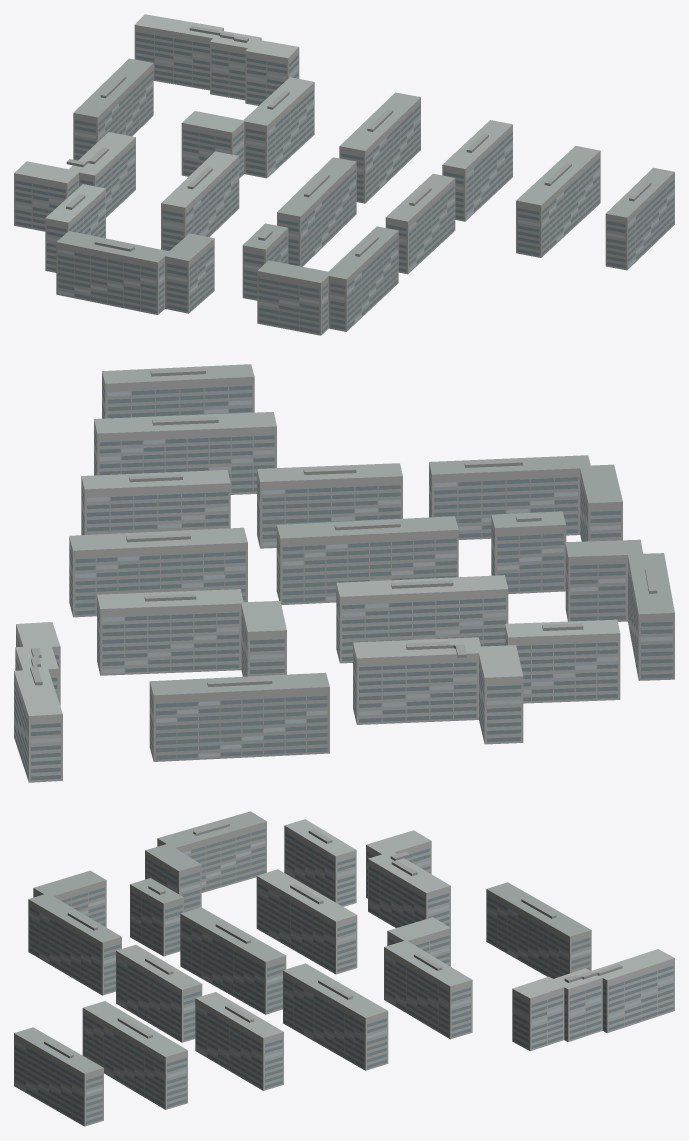
The model's file is apt-a13524006.glb.
The picture shows the model from 3 angles, top to bottom: view 1: azimuth 30°, elevation 25°; view 2: azimuth 150°, elevation 25°; view 3: azimuth 270°, elevation 25°; orthographic projection. The views are drawn at different scales.
Parts seen in each view (by area): view 1: apt-a13524006; view 2: apt-a13524006; view 3: apt-a13524006.
Boxes of the visible parts, x1,y1,x2,y2 form: apt-a13524006: (14, 14, 674, 335); apt-a13524006: (14, 364, 674, 782); apt-a13524006: (14, 811, 674, 1126).
Size of the model in its own units: 292 by 28.69 by 311.
